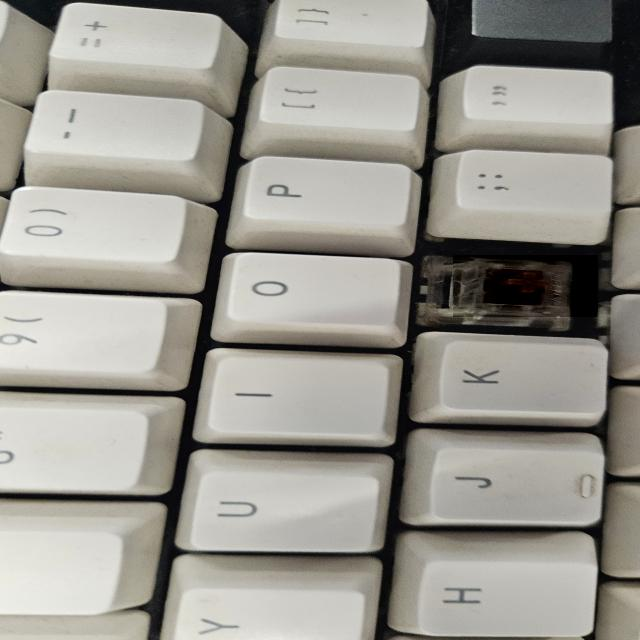C: (453, 255, 598, 318)
